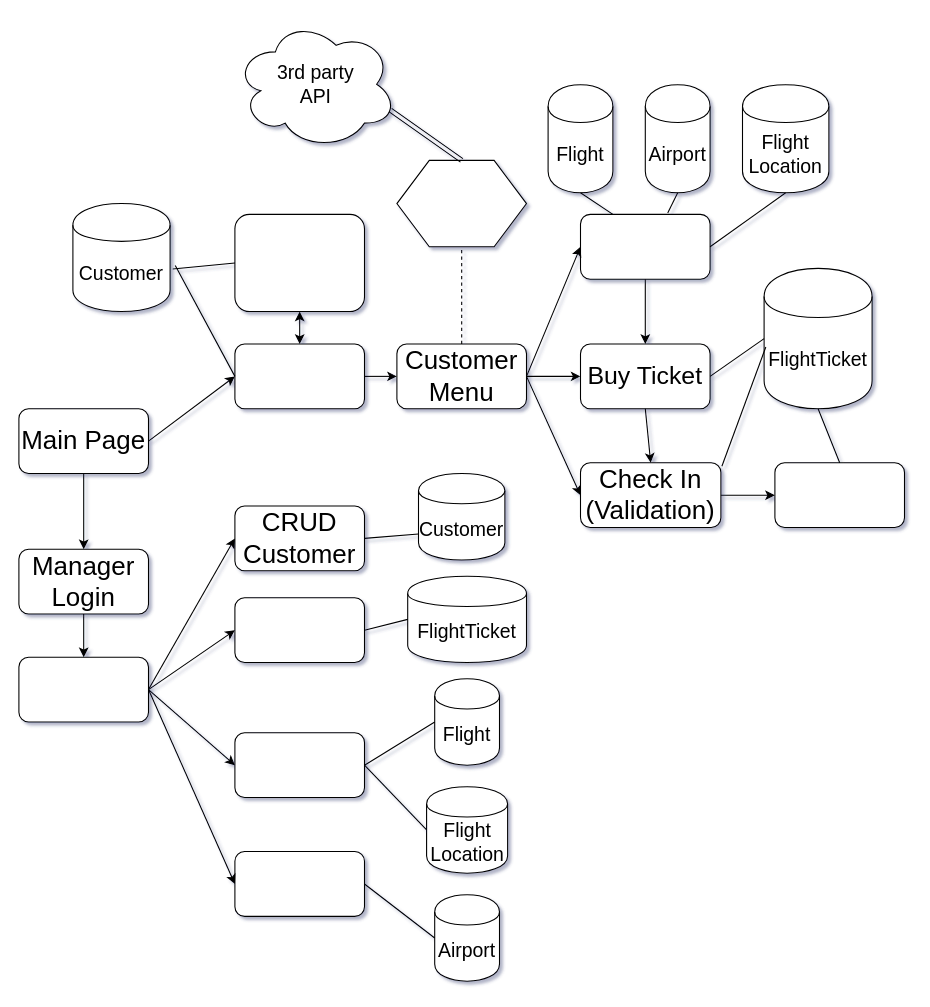
Image size: 930x1007. Some labels were removed from this diagram. Each missing label, with the centre of its shape:
"Check Flight Status" goes at point (644, 246).
"Create New Customer" goes at point (299, 262).
"CRUD Airport" goes at point (299, 883).
"CRUD Flight" goes at point (299, 765).
"CRUD Ticket" goes at point (299, 630).
"Customer Login" goes at point (299, 376).
"Delay Notification" goes at point (461, 203).
"Luggage?" goes at point (839, 495).
"Manager Menu" goes at point (83, 689).
